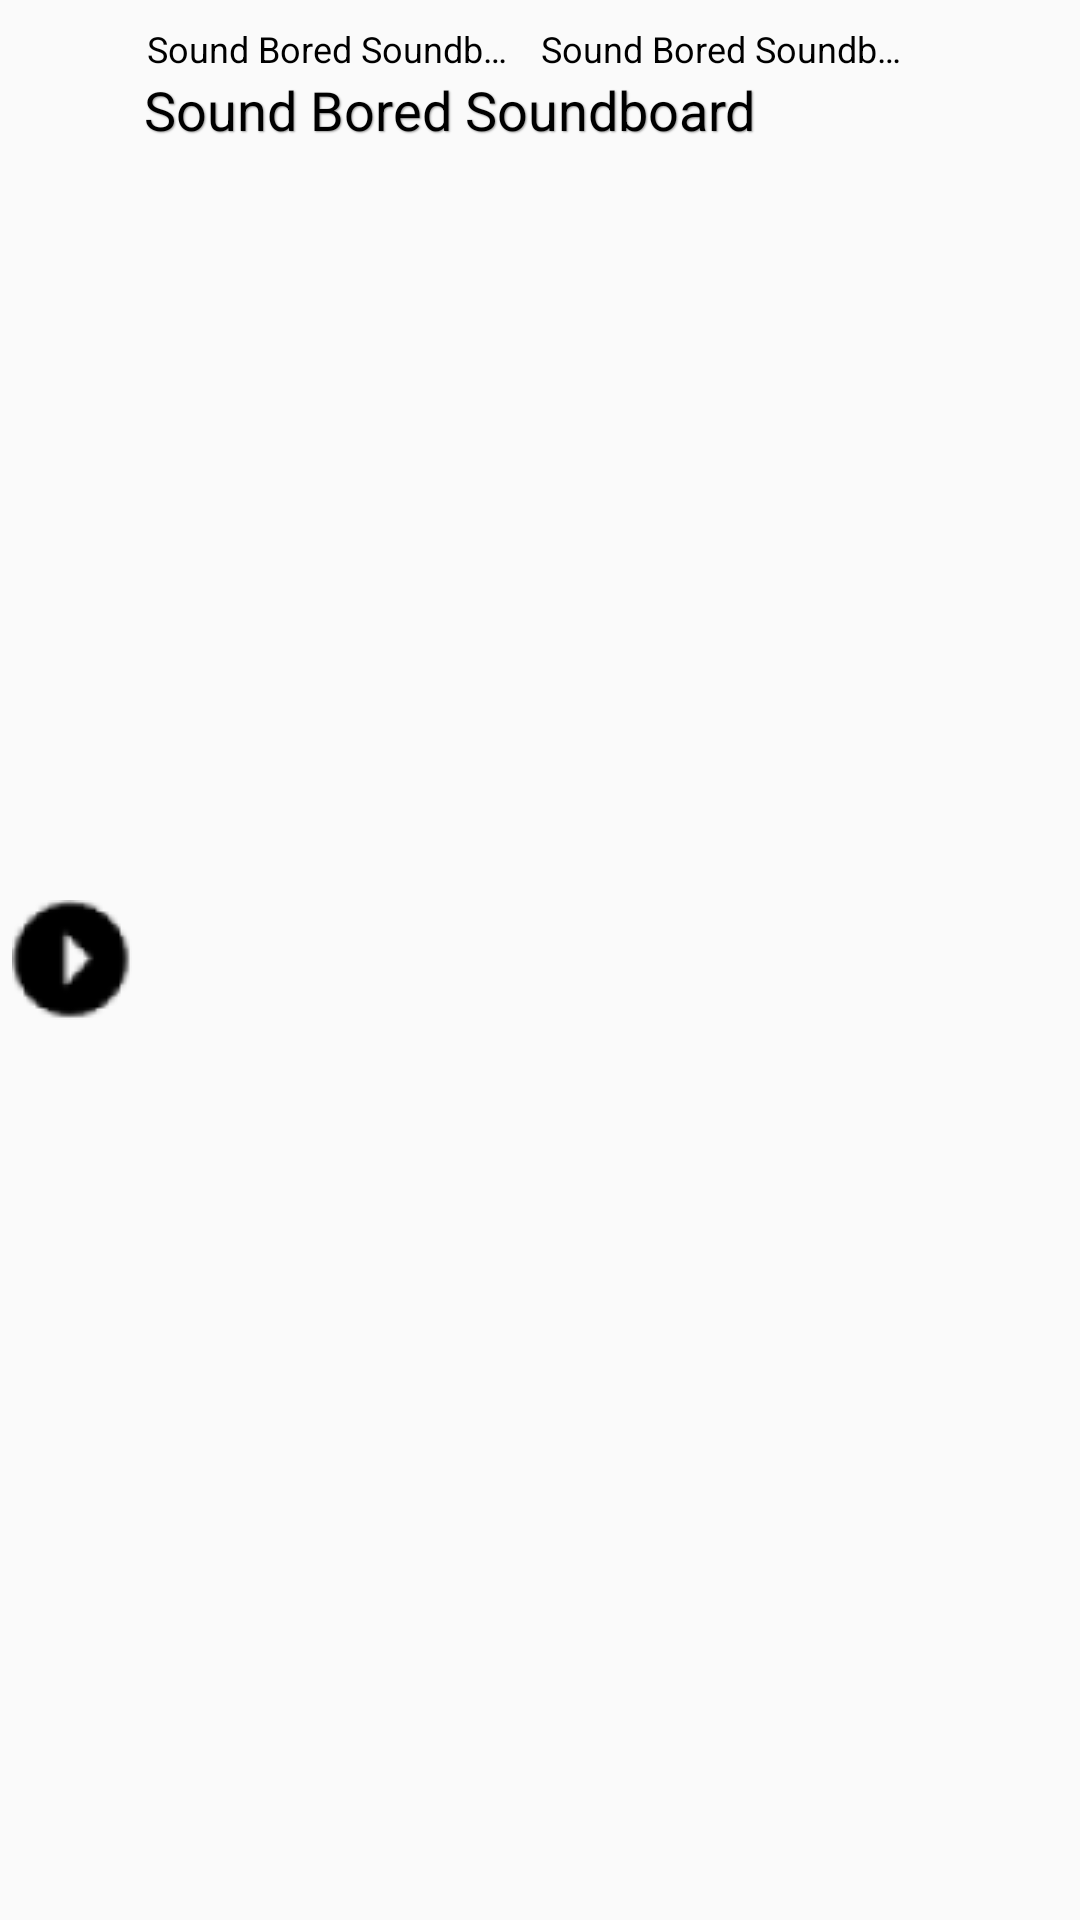

Named icons in this screenshot (1080×1920) and their bounding boxes, rect(x1, y1, x2, y2):
play: rect(12, 900, 130, 1018)
